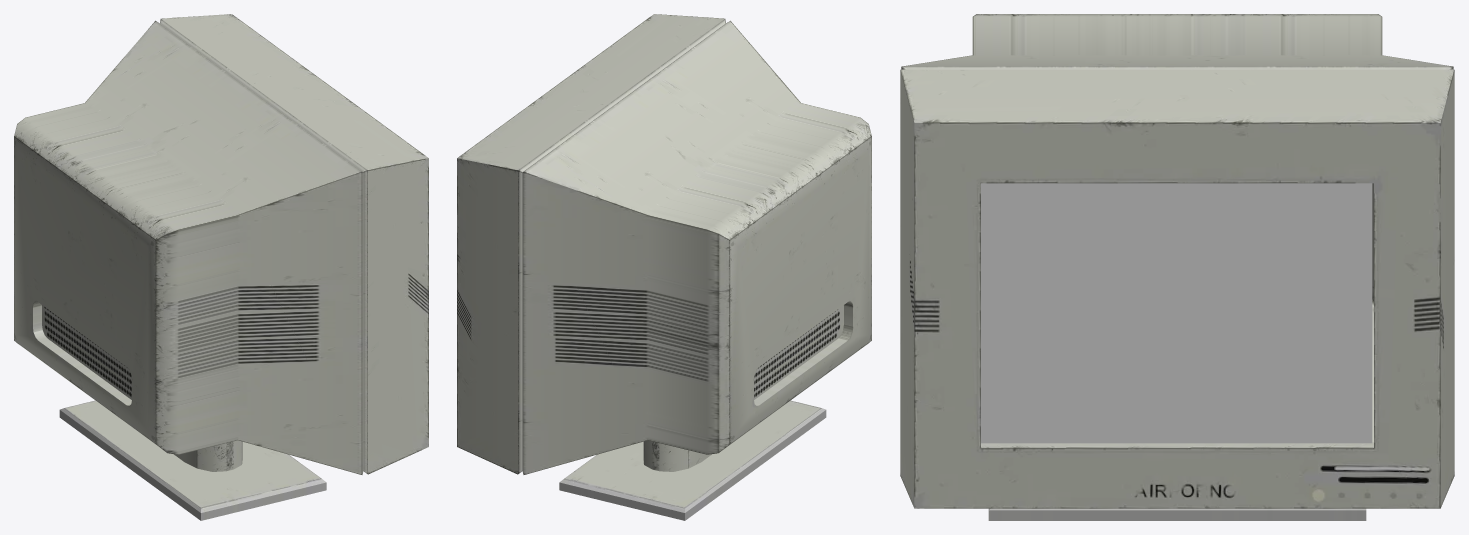
The model's file is Monitor-transformed.glb.
3 views of the same model, side by side, from view 1: azimuth 30°, elevation 25°; view 2: azimuth 150°, elevation 25°; view 3: azimuth 270°, elevation 25° (orthographic). The views are drawn at different scales.
Parts seen in each view (by area): view 1: pCube3_monitor_0; view 2: pCube3_monitor_0; view 3: pCube3_monitor_0, Plane.
Part boxes in pixels (x1=…): pCube3_monitor_0: x1=14, y1=14, x2=428, y2=520; pCube3_monitor_0: x1=457, y1=14, x2=871, y2=520; pCube3_monitor_0: x1=900, y1=14, x2=1454, y2=520; Plane: x1=981, y1=183, x2=1372, y2=443.
Size of the model in its own units: 4.01 by 5.29 by 5.81.
1 material, 1 textured.
